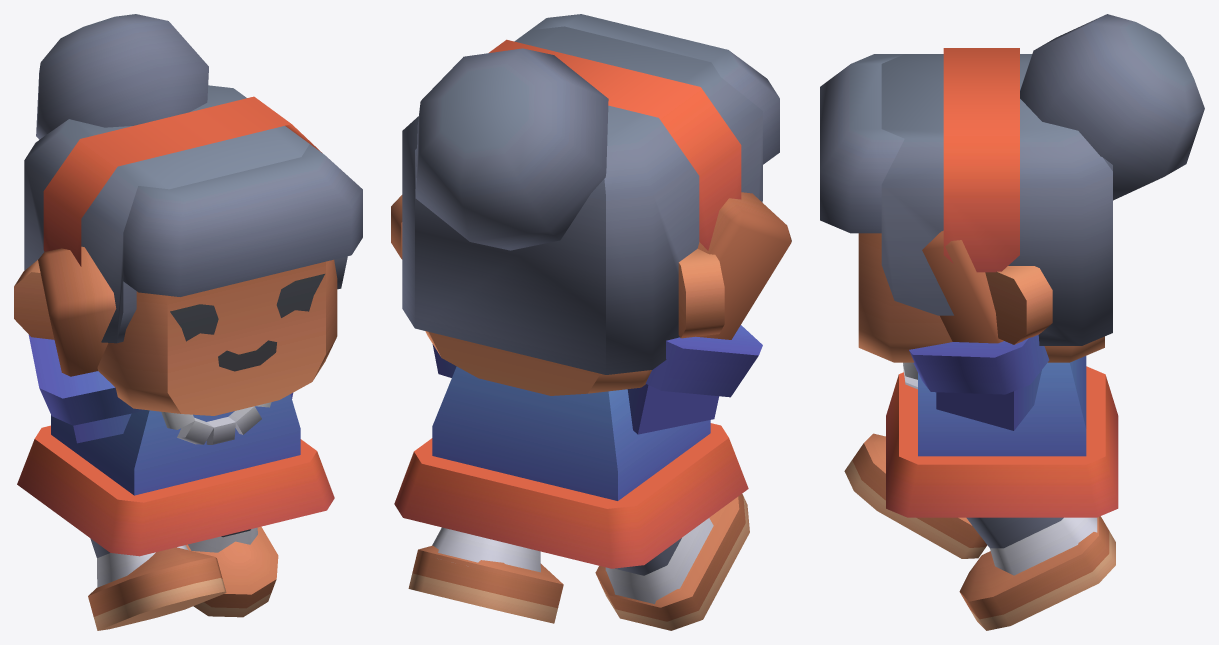
File: walker-female-c-walk-b.glb
3 views of the same model, side by side, from view 1: azimuth 30°, elevation 25°; view 2: azimuth 150°, elevation 25°; view 3: azimuth 270°, elevation 25° (orthographic). The views are drawn at different scales.
Parts seen in each view (by area): view 1: character-female-c-walk-b; view 2: character-female-c-walk-b; view 3: character-female-c-walk-b.
Boxes of the visible parts, left/top/right/bottom form: character-female-c-walk-b: left=14, top=14, right=362, bottom=630; character-female-c-walk-b: left=391, top=14, right=791, bottom=630; character-female-c-walk-b: left=820, top=14, right=1204, bottom=630.
Size of the model in its own units: 0.4719 by 0.8165 by 0.4995.
Materials: 1 (1 with a texture image).
